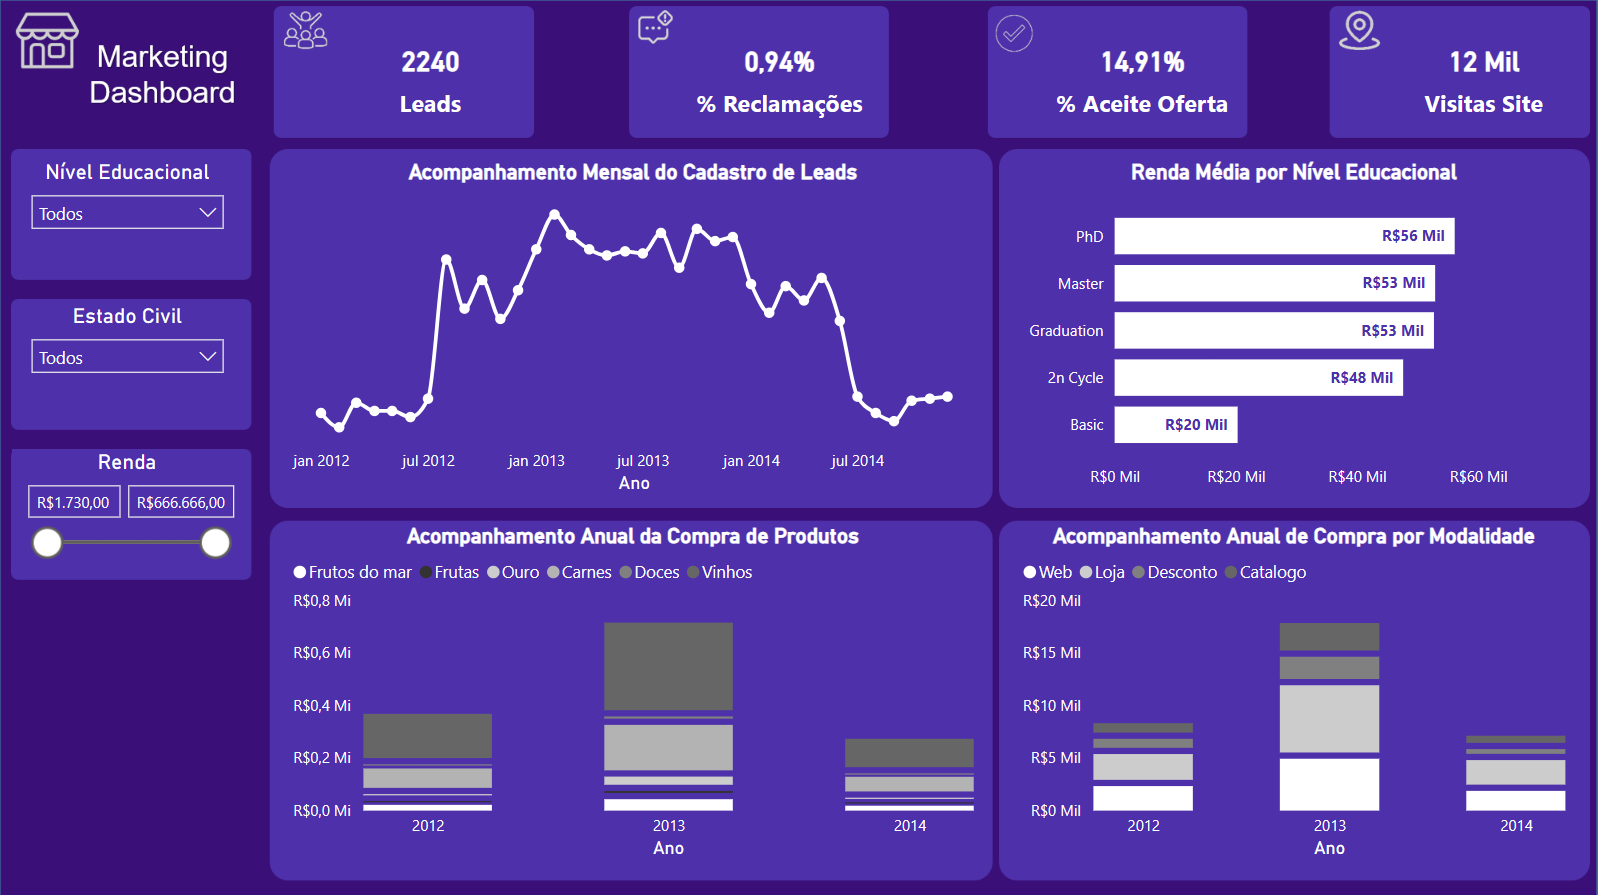

Layout of this report page (visuals, bound fields, positions):
{"tool":"powerbi","page":{"name":"Dashboard","canvas":[1280,720],"ordinal":0},"visuals":[{"type":"card","title":"LEADS","fields":{"Values":["CountNonNull(superstore_data.Id)"]},"box":[275.8,14.7,140,95.8],"z":0},{"type":"card","title":"LEADS","fields":{"Values":["superstore_data.%_Complains"]},"box":[543.2,14.7,164.2,95.8],"z":1000},{"type":"card","title":"LEADS","fields":{"Values":["superstore_data.%_Offer_Accepted"]},"box":[834.7,14.7,162.1,95.8],"z":2000},{"type":"card","title":"LEADS","fields":{"Values":["Sum(superstore_data.NumWebVisitsMonth)"]},"box":[1107.4,14.7,163.2,95.8],"z":3000},{"type":"lineChart","title":"Acompanhamento Mensal do Cadastro de Leads","fields":{"Y":["CountNonNull(superstore_data.Id)"],"Category":["superstore_data.full_date.Variation.Hierarquia de datas.Ano","superstore_data.full_date.Variation.Hierarquia de datas.Mês"]},"box":[229.5,128.4,555.8,272.6],"z":4000},{"type":"barChart","title":"Renda Média por Nível Educacional","fields":{"Category":["superstore_data.Education"],"Y":["Avg(superstore_data.Income)"]},"box":[814.7,128.4,445.3,272.6],"z":5000},{"type":"columnChart","title":"Acompanhamento Anual da Compra de Produtos","fields":{"Y":["Sum(superstore_data.MntFishProducts)","Sum(superstore_data.MntFruits)","Sum(superstore_data.MntGoldProds)","Sum(superstore_data.MntMeatProducts)","Sum(superstore_data.MntSweetProducts)","Sum(superstore_data.MntWines)"],"Category":["superstore_data.Year"]},"box":[229.5,420,555.8,273.7],"z":7000},{"type":"columnChart","title":"Acompanhamento Anual de Compra por Modalidade","fields":{"Y":["Sum(superstore_data.NumWebPurchases)","Sum(superstore_data.NumStorePurchases)","Sum(superstore_data.NumDealsPurchases)","Sum(superstore_data.NumCatalogPurchases)"],"Category":["superstore_data.Year"]},"box":[814.7,420,445.3,273.7],"z":8000},{"type":"slicer","title":"Nível Educacional","fields":{"Values":["superstore_data.Education"]},"box":[15.8,128.4,173.7,70.5],"z":9000},{"type":"slicer","title":"Estado Civil","fields":{"Values":["superstore_data.Marital_Status"]},"box":[15.8,243.2,173.7,70.5],"z":10000},{"type":"slicer","title":"Renda","fields":{"Values":["superstore_data.Income"]},"box":[10.5,360,184.2,98.9],"z":11000}]}

Visuals, with their boxes in screenshot pixels (x1, y1, x2, y2), scaled from the page's 1280x720 canvas onto the 1598x895 screenshot:
"LEADS" card: x1=344 y1=18 x2=519 y2=137
"LEADS" card: x1=678 y1=18 x2=883 y2=137
"LEADS" card: x1=1042 y1=18 x2=1244 y2=137
"LEADS" card: x1=1383 y1=18 x2=1586 y2=137
"Acompanhamento Mensal do Cadastro de Leads" lineChart: x1=287 y1=160 x2=980 y2=498
"Renda Média por Nível Educacional" barChart: x1=1017 y1=160 x2=1573 y2=498
"Acompanhamento Anual da Compra de Produtos" columnChart: x1=287 y1=522 x2=980 y2=862
"Acompanhamento Anual de Compra por Modalidade" columnChart: x1=1017 y1=522 x2=1573 y2=862
"Nível Educacional" slicer: x1=20 y1=160 x2=237 y2=247
"Estado Civil" slicer: x1=20 y1=302 x2=237 y2=390
"Renda" slicer: x1=13 y1=448 x2=243 y2=570
